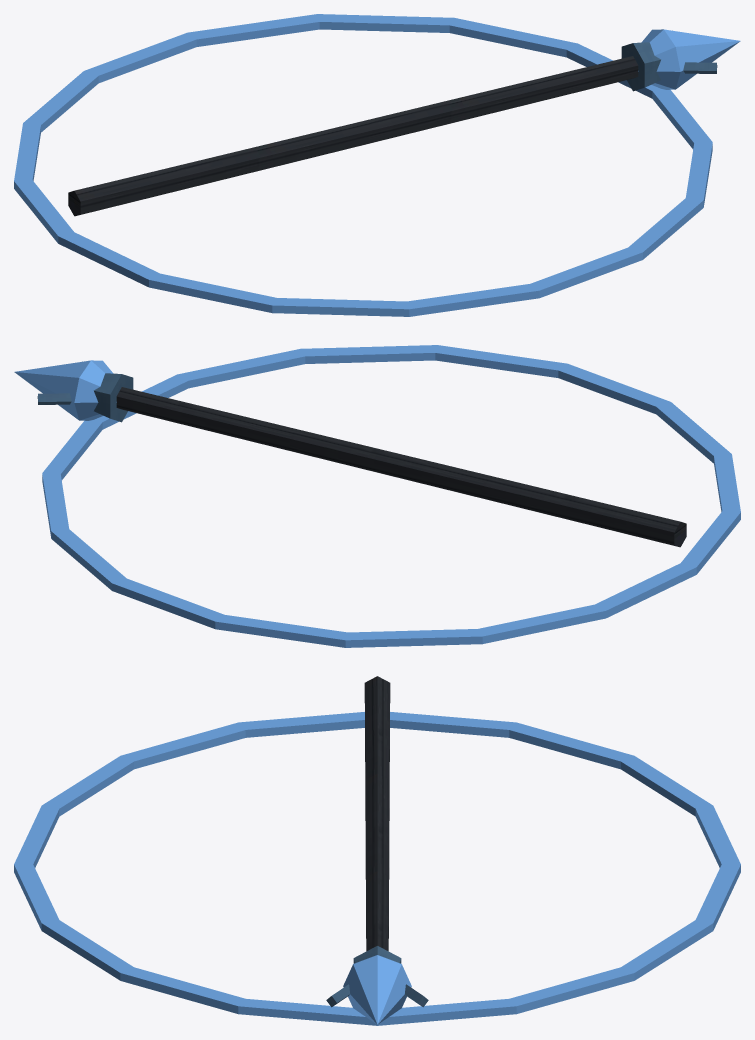
The model's file is loot_staff_g1.glb.
3 views of the same model, one above another, from view 1: azimuth 30°, elevation 25°; view 2: azimuth 150°, elevation 25°; view 3: azimuth 270°, elevation 25° (orthographic). The views are drawn at different scales.
Visible parts, largest first — view 1: loot_staff_g1; view 2: loot_staff_g1; view 3: loot_staff_g1.
Boxes of the visible parts, x1,y1,x2,y2 form: loot_staff_g1: (14,14,740,316); loot_staff_g1: (14,345,740,647); loot_staff_g1: (14,676,740,1025).
Bounding box in the file's own units: 1.77 × 0.165 × 1.58.
Materials: 3 (2 with a texture image).
